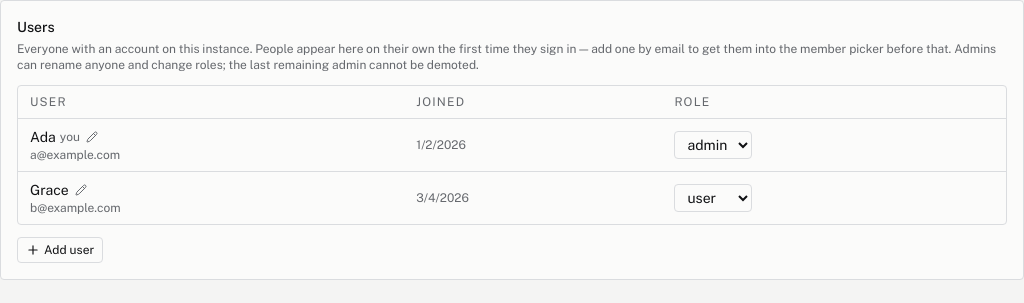
Test case: renaming a user › discards the edit on cancel
expect the text "Grace" is shown: met, box [30,180,69,200]
Click the button named "Rename b@example.com": [81, 190] box [73,182,89,198]
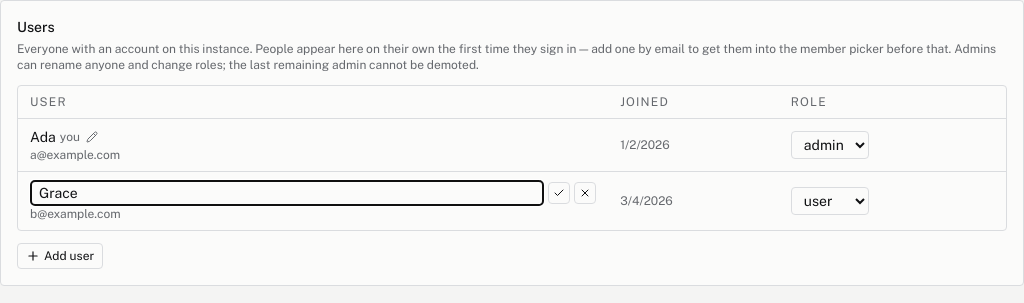
Replace the text in the field named "display name for b@example.com" with "Typo": [287, 193] box [30,180,544,206]
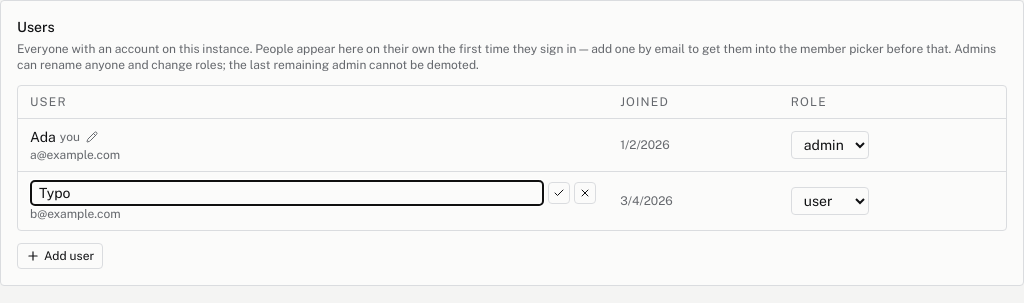
Click the button named "cancel renaming b@example.com": [585, 193] box [574,182,596,204]
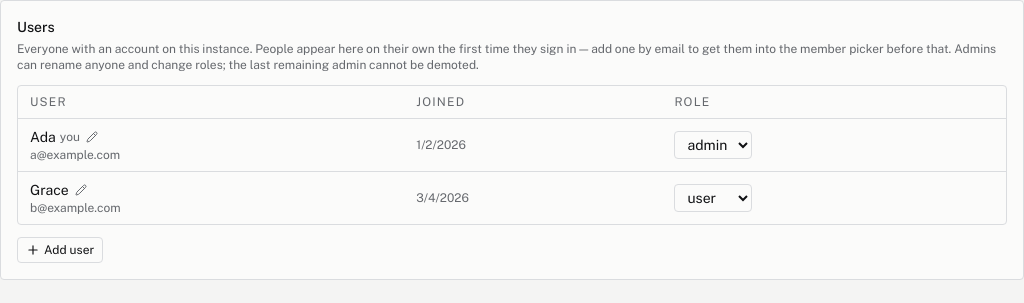
expect the text "Typo" is not shown: met
expect the text "Grace" is shown: met, box [30,180,69,200]
